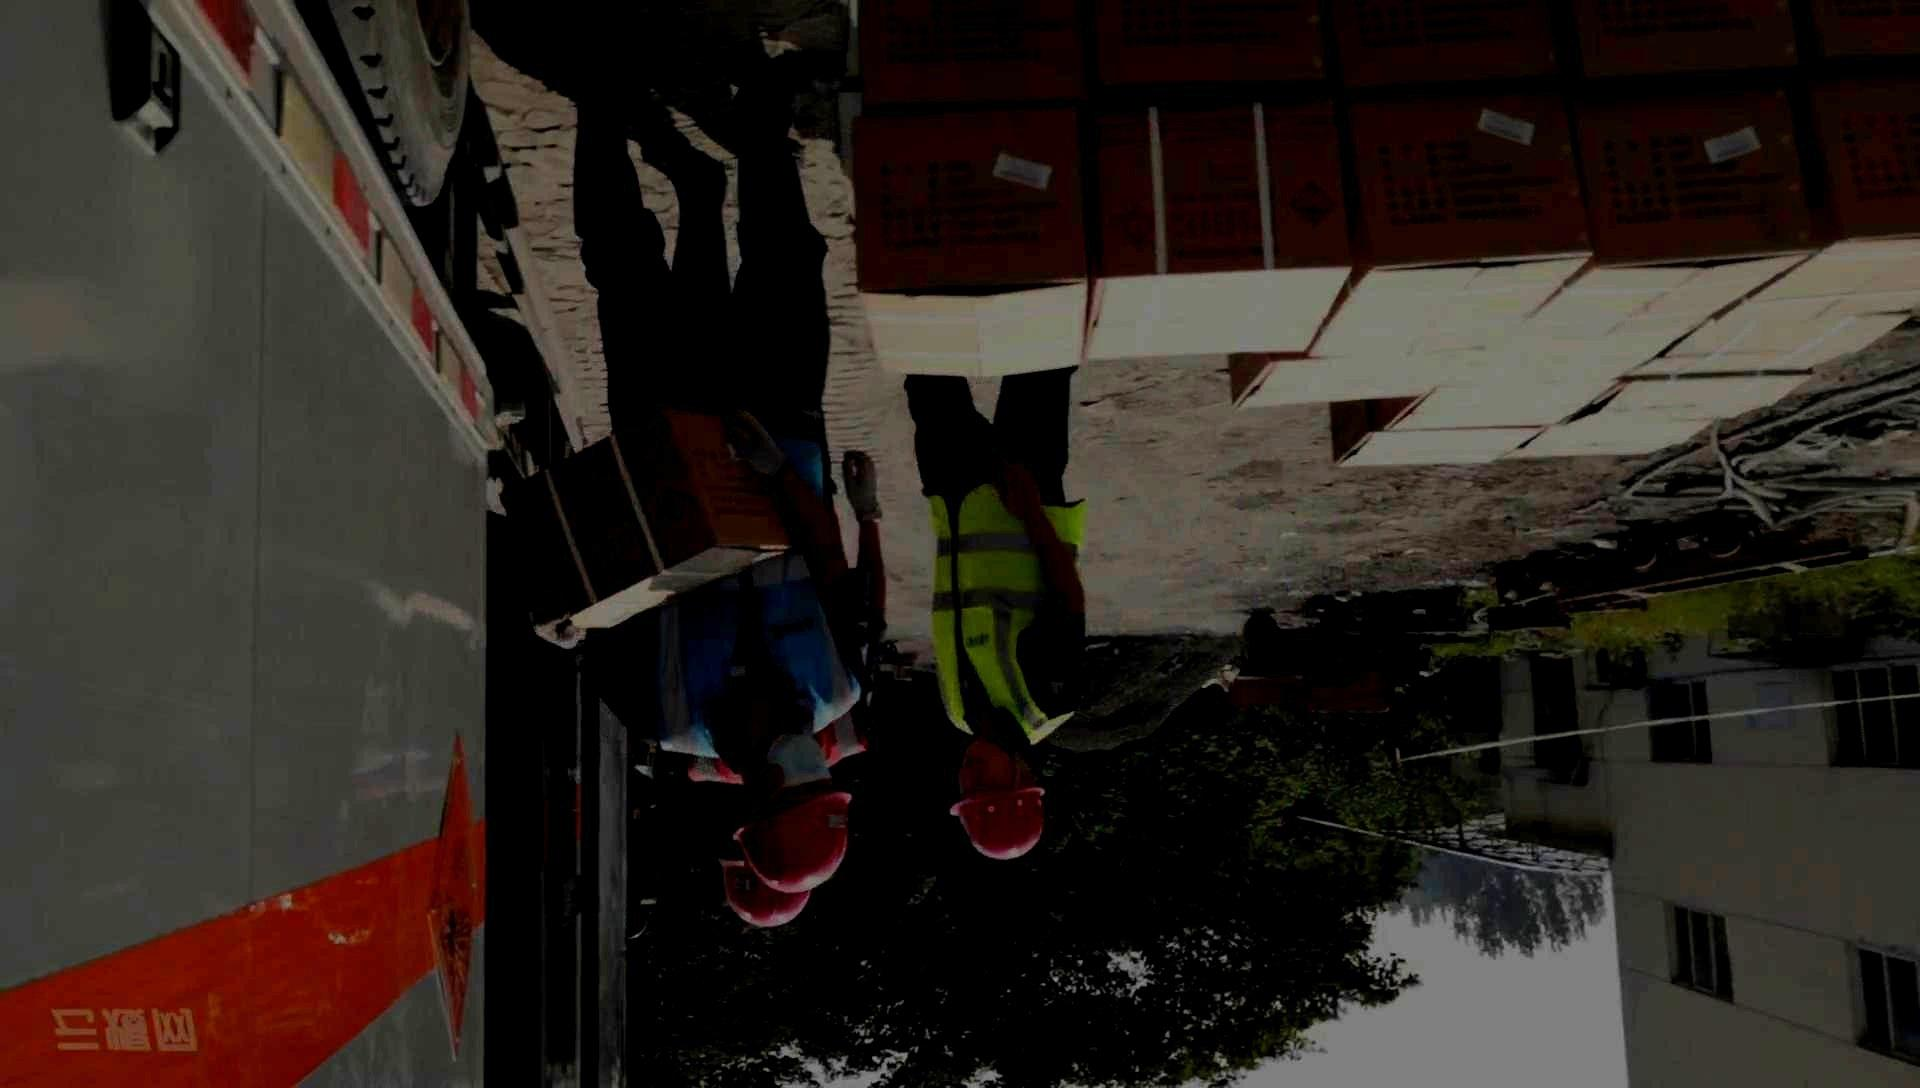helmet: (732, 732, 852, 892), (948, 736, 1044, 859), (717, 857, 811, 927)
